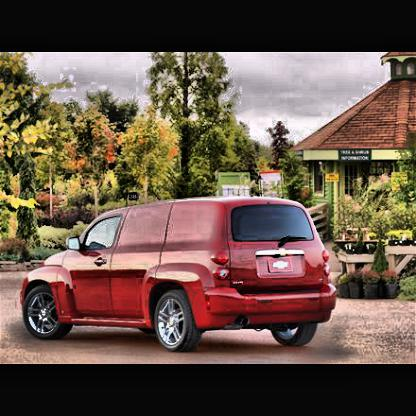Chevrolet HHR SS 2010: (22, 198, 339, 354)
